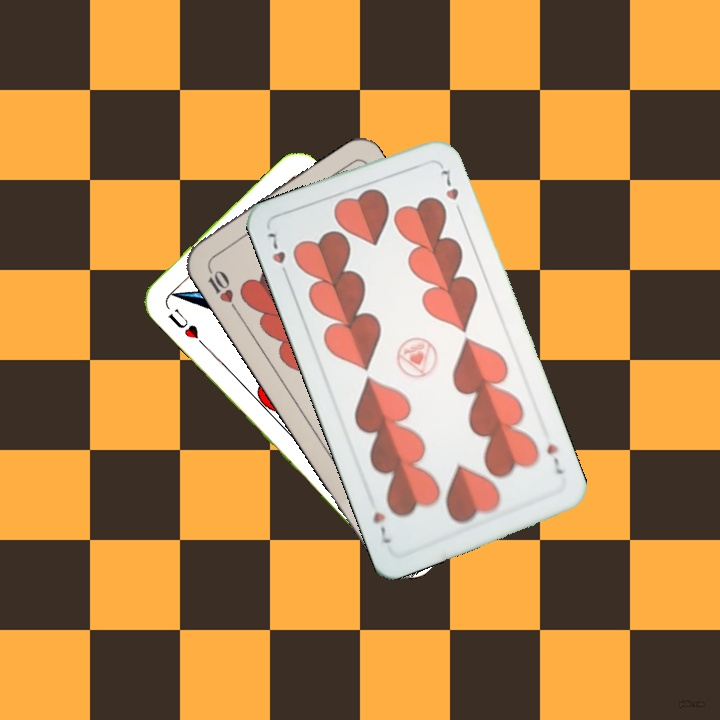H10: (203, 261, 241, 314)
H7: (263, 228, 292, 282), (542, 440, 566, 477)
HU: (163, 304, 207, 349)
